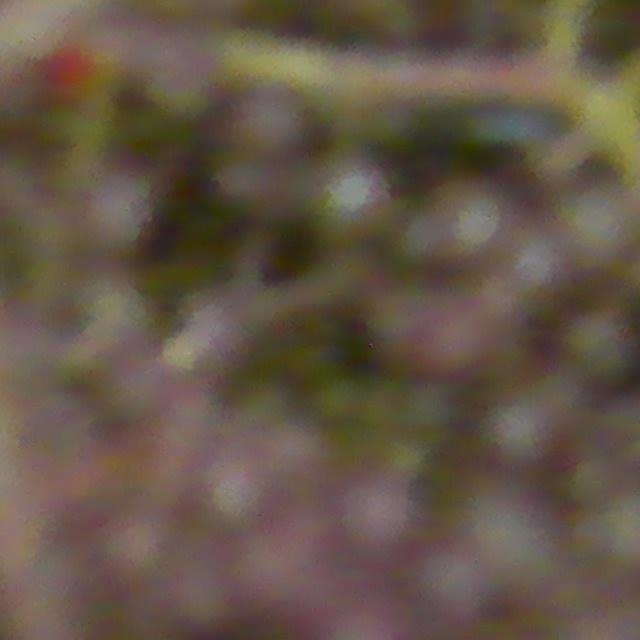SeaGrape: (241, 522, 345, 626), (194, 432, 294, 532), (423, 170, 508, 266), (301, 162, 390, 251), (340, 202, 429, 291), (416, 288, 486, 384), (222, 97, 305, 175), (341, 477, 415, 555)
